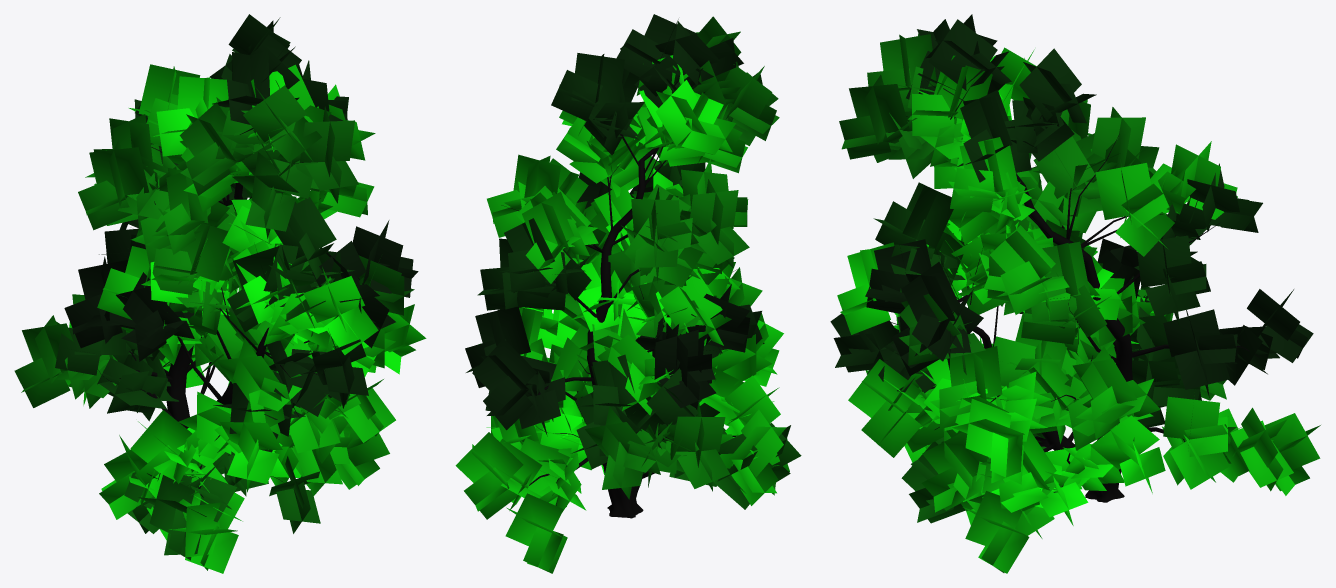
File: Type_1_7.fbx
3 views of the same model, side by side, from view 1: azimuth 30°, elevation 25°; view 2: azimuth 150°, elevation 25°; view 3: azimuth 270°, elevation 25° (orthographic). The views are drawn at different scales.
Parts seen in each view (by area): view 1: Type_1_7; view 2: Type_1_7; view 3: Type_1_7.
Boxes of the visible parts, x1,y1,x2,y2 form: Type_1_7: [14, 14, 426, 573]; Type_1_7: [455, 14, 801, 573]; Type_1_7: [830, 14, 1320, 573].
Bounding box in the file's own units: 358 × 542 × 467.
